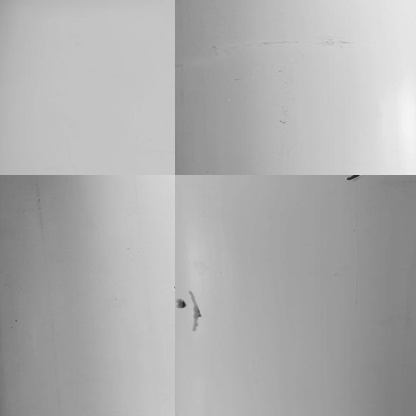sunshang: (175, 288, 203, 332)
